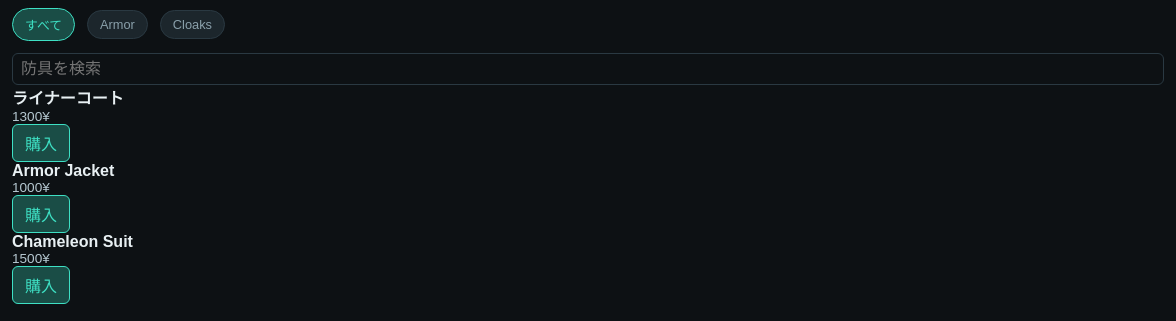
Scenario: CatalogPicker › says so when nothing matches
In the search field labelled "防具を検索": (588,69) [12,53,1164,85], type "zzz"
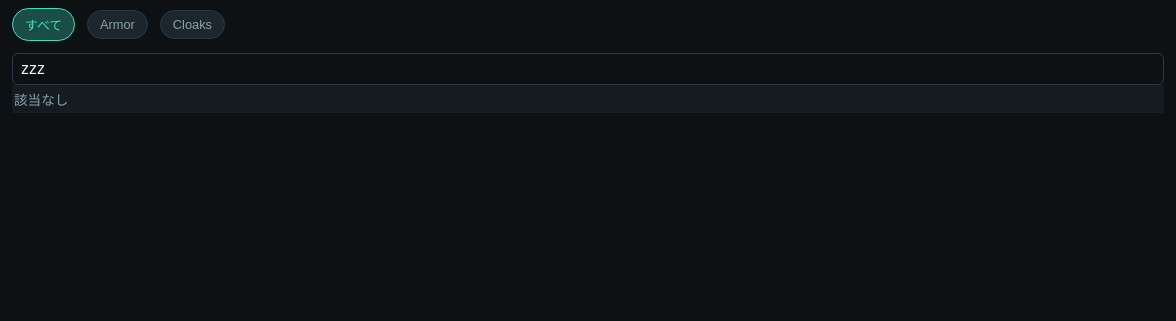
Expected: the message reads "該当なし", [14,93,68,108]
